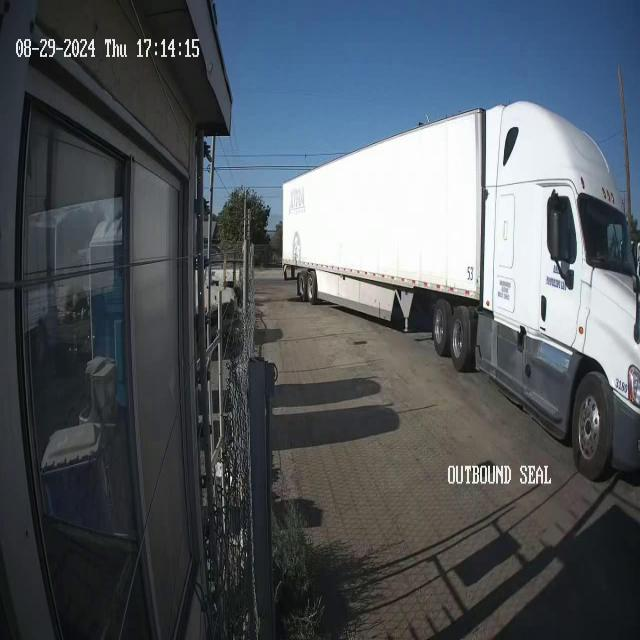TRUCK_IN: (280, 97, 640, 482)
